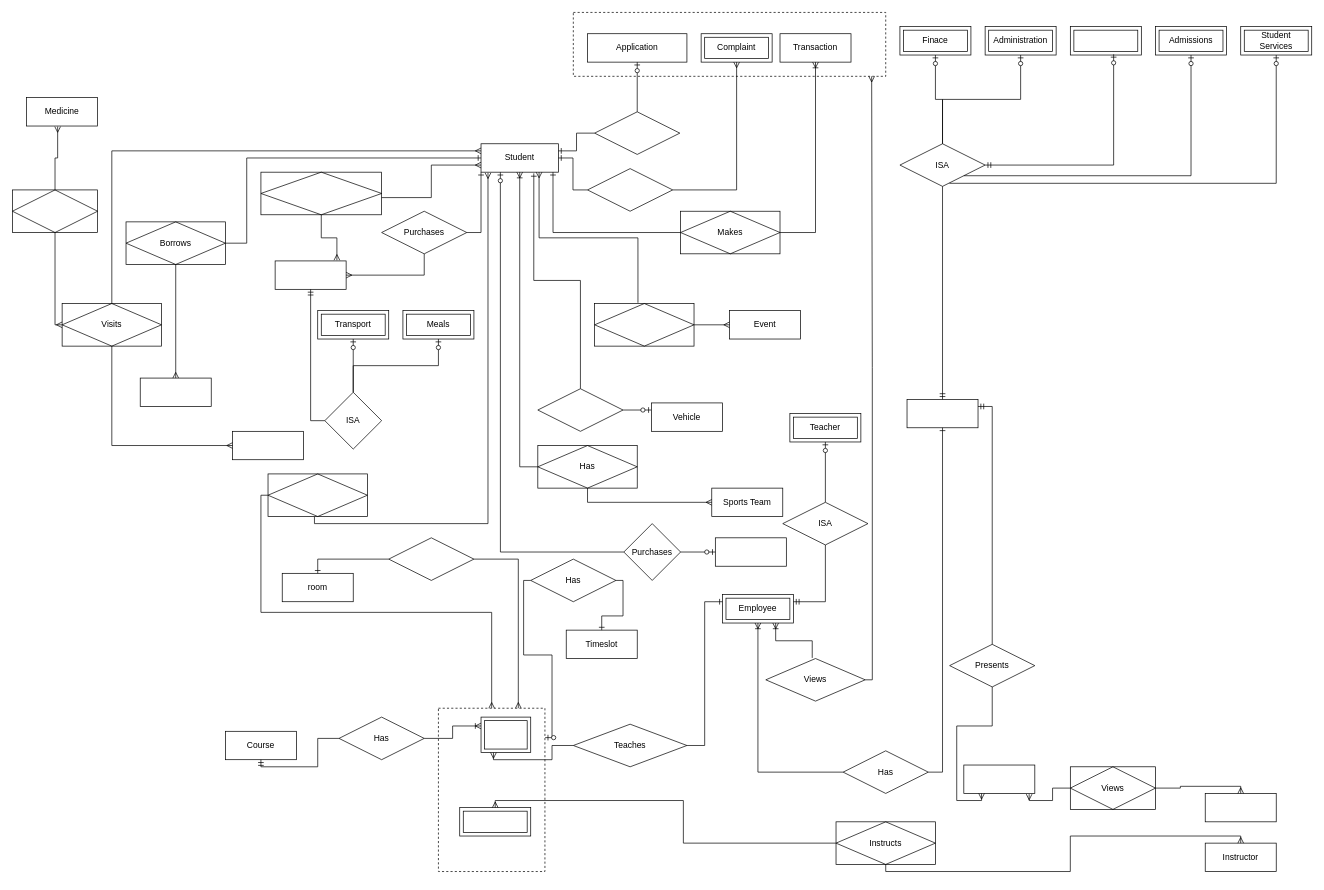
The diagram is 1324 pixels wide and 890 high, and some of its shapes have lost their labels. Each missing label, with the centre of its shape:
"Academic" goes at [1105,40].
"Annual Report" goes at [1240,807].
"Attends" goes at [644,324].
"Book" goes at [175,391].
"Brings" goes at [580,409].
"Club" goes at [495,821].
"Department" goes at [942,413].
"Doctor" goes at [268,445].
"Enrolls" goes at [317,495].
"Files" goes at [630,189].
"Fills" goes at [637,132].
"Occurs" goes at [431,558].
"Parking Spot" goes at [750,551].
"Prescribes" goes at [55,211].
"Section" goes at [505,734].
"Shareholder" goes at [999,778].
"Third Party Service" goes at [310,274].
"Uses" goes at [321,193].
